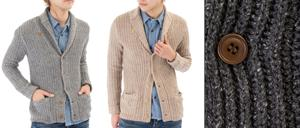S_cardigan sweater: (5, 10, 102, 123), (105, 11, 192, 119)
